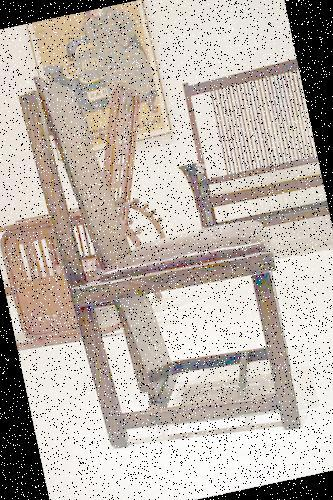Silla: (18, 40, 309, 469)
